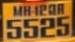character: (6, 19, 22, 39), (40, 17, 55, 38), (56, 15, 70, 37), (23, 18, 38, 38)
